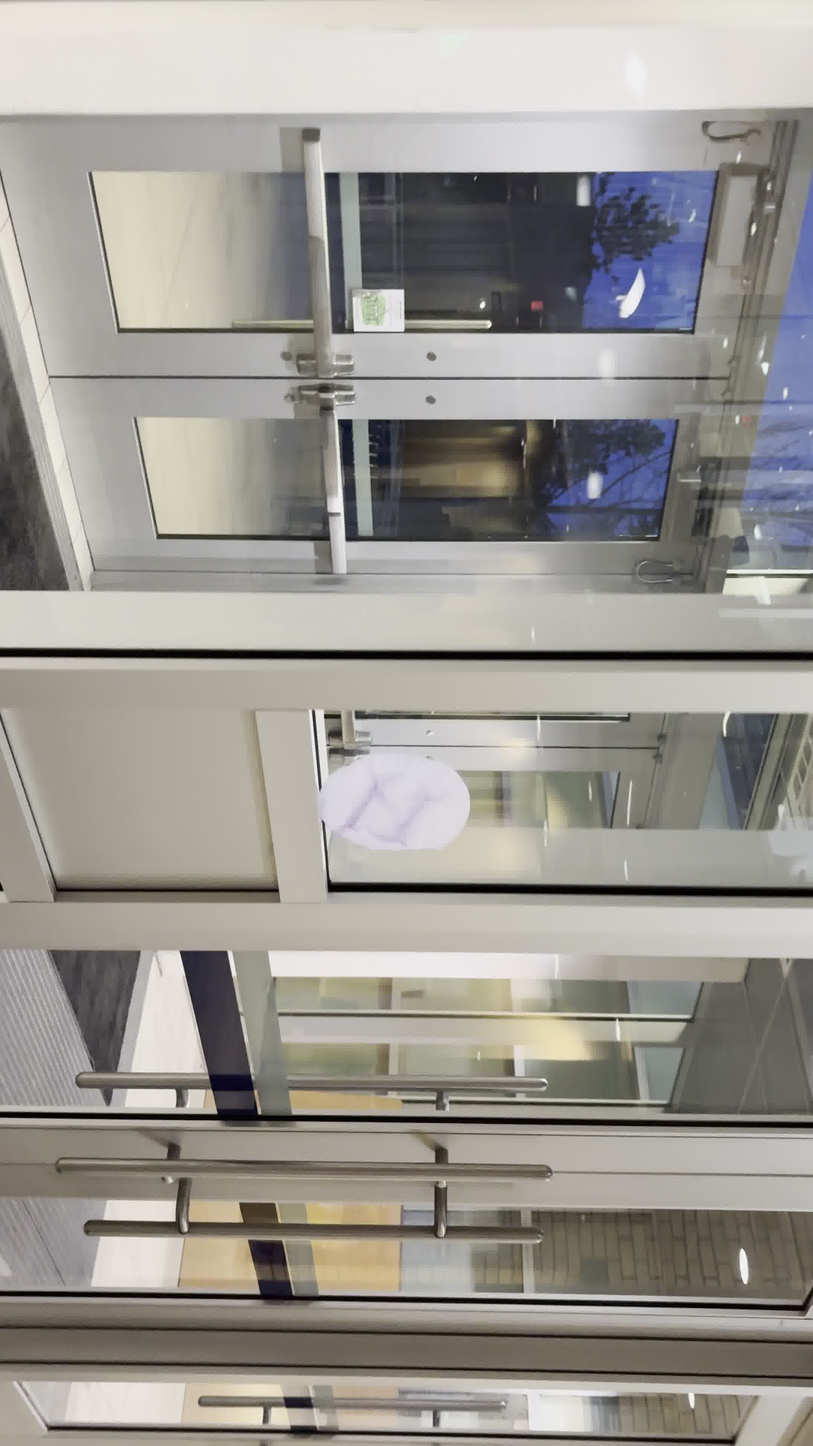Target: (314, 750, 472, 853)
